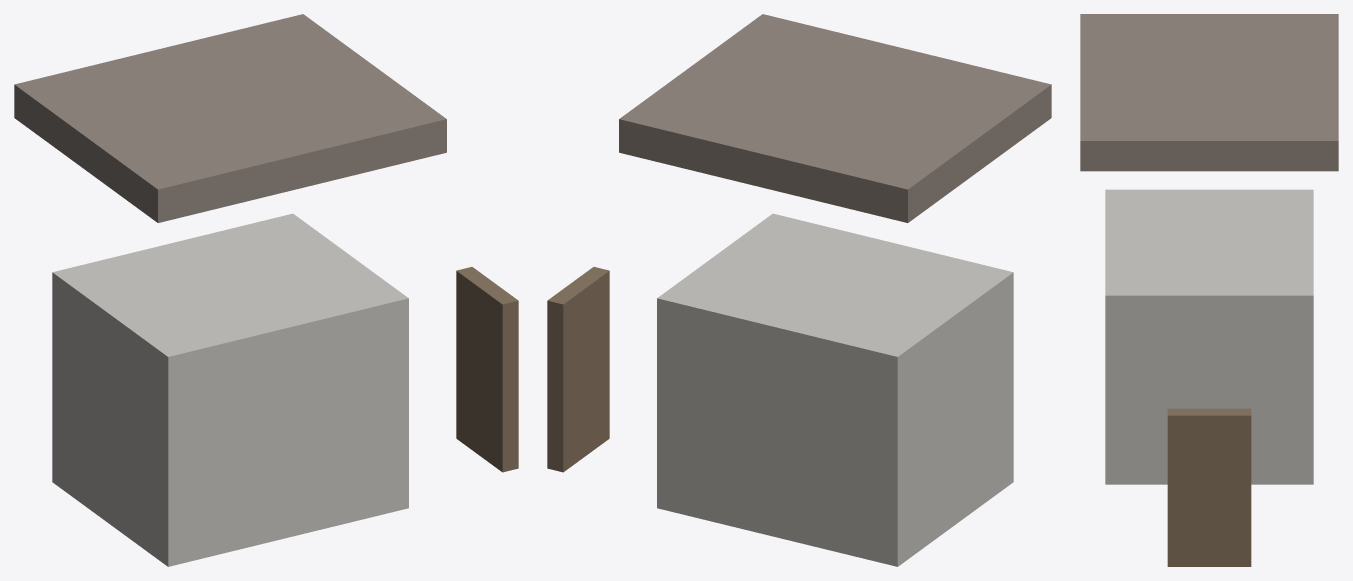
Rendered from building_shed.glb.
The picture shows the model from 3 angles, left to right: view 1: azimuth 30°, elevation 25°; view 2: azimuth 150°, elevation 25°; view 3: azimuth 270°, elevation 25°; orthographic projection. The views are drawn at different scales.
Parts seen in each view (by area): view 1: building_shed; view 2: building_shed; view 3: building_shed.
Part boxes in pixels (bbox=[...]): building_shed: bbox=[14, 14, 518, 566]; building_shed: bbox=[547, 14, 1051, 566]; building_shed: bbox=[1080, 14, 1338, 566].
Bounding box in the file's own units: 2.55 × 2.47 × 1.55.
